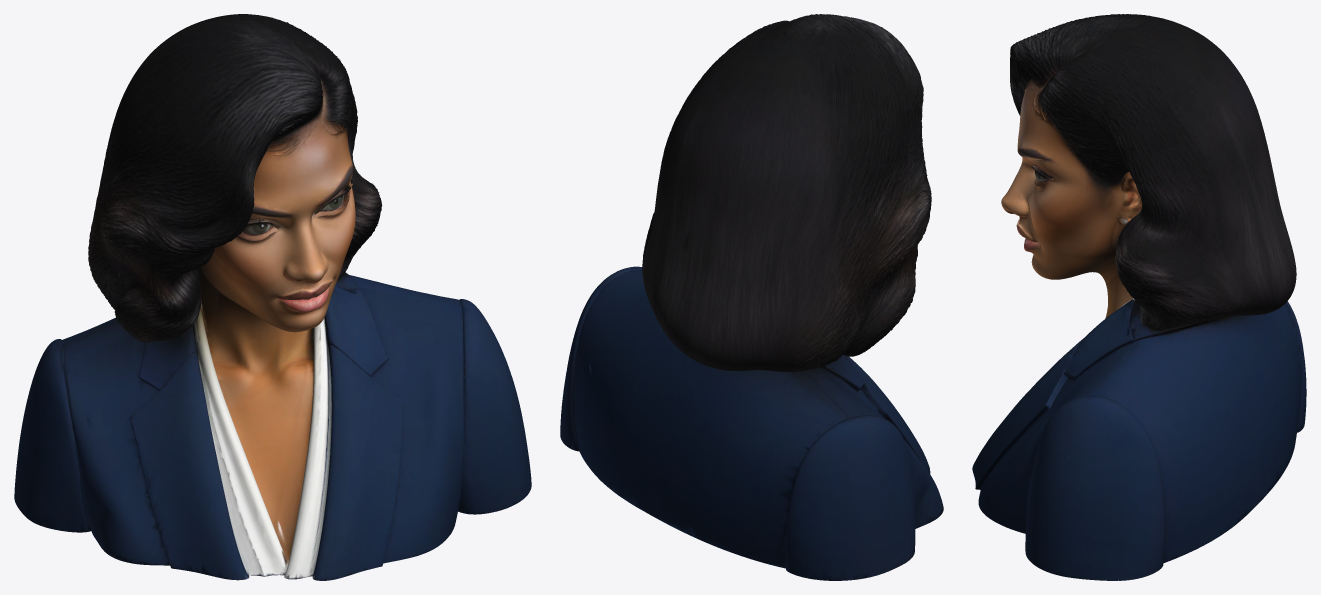
The model's file is daniela3d.glb.
3 views of the same model, side by side, from view 1: azimuth 30°, elevation 25°; view 2: azimuth 150°, elevation 25°; view 3: azimuth 270°, elevation 25° (orthographic). The views are drawn at different scales.
Visible parts, largest first — view 1: node_0; view 2: node_0; view 3: node_0.
Boxes of the visible parts, x1,y1,x2,y2 form: node_0: (14,14,531,580); node_0: (560,14,943,580); node_0: (972,14,1306,580).
Bounding box in the file's own units: 0.7635 × 0.8446 × 0.5737.
1 material, 1 textured.
